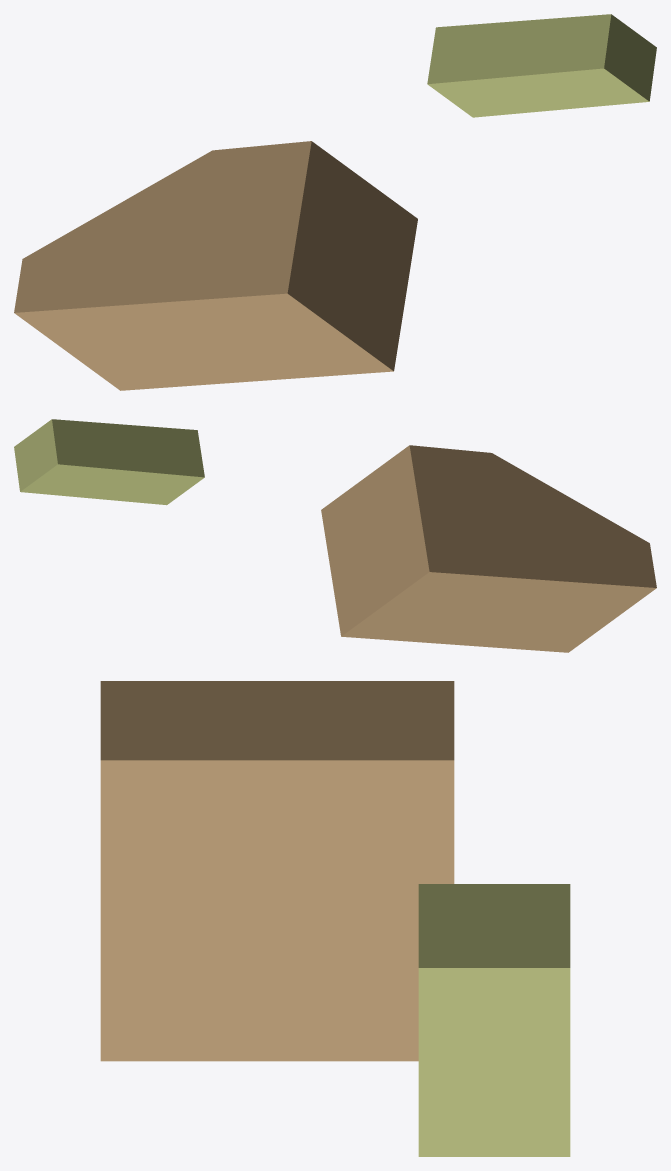
3 renders of one model, top to bottom at view 1: azimuth 30°, elevation 25°; view 2: azimuth 150°, elevation 25°; view 3: azimuth 270°, elevation 25°, orthographic. The views are drawn at different scales.
Visible parts, largest first — view 1: 0_3_2_3_1_1_2_3; view 2: 0_3_2_3_1_1_2_3; view 3: 0_3_2_3_1_1_2_3.
Boxes of the visible parts, box(x1,y1,x2,y2) form: 0_3_2_3_1_1_2_3: box(14, 14, 656, 390); 0_3_2_3_1_1_2_3: box(14, 419, 656, 652); 0_3_2_3_1_1_2_3: box(100, 681, 570, 1156).
Bounding box in the file's own units: 72.01 × 21.34 × 27.88.
